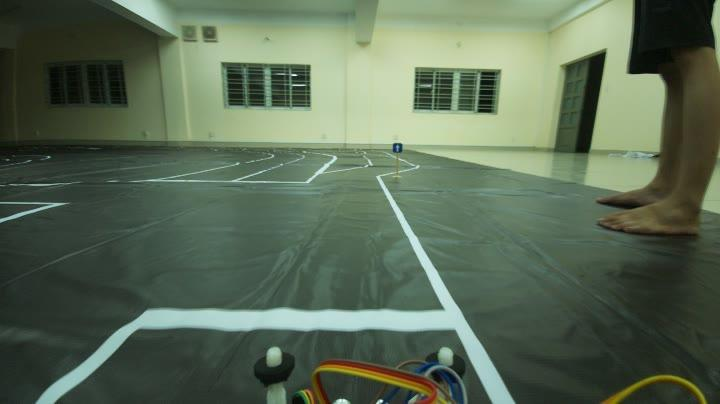onewayroad: (389, 140, 406, 158)
